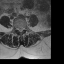CCS_normal: (20, 26, 21, 34)
LFS_normal: (23, 25, 25, 32)
LLS_normal: (21, 25, 23, 33)
RFS_normal: (16, 25, 18, 32)
RLS_normal: (18, 26, 20, 33)
